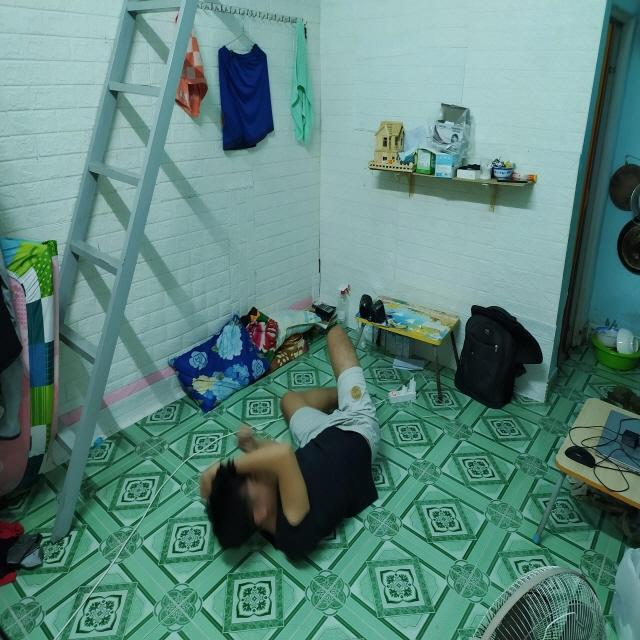Fall: (200, 327, 380, 560)
